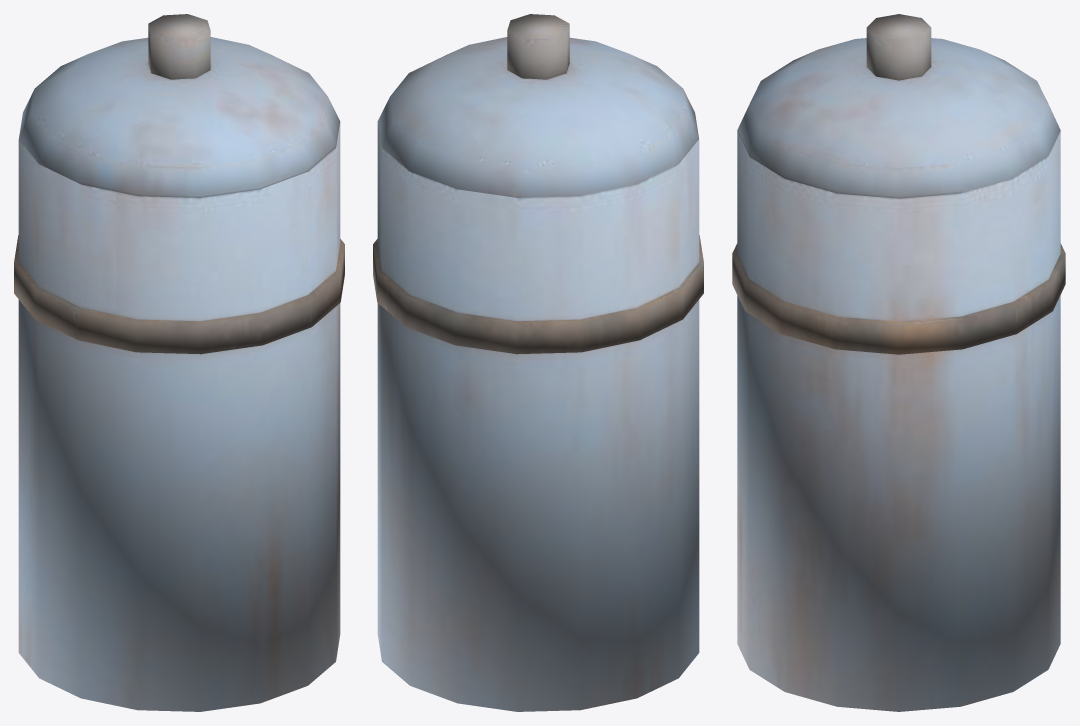
Rendered from barrel.glb.
3 renders of one model, left to right at view 1: azimuth 30°, elevation 25°; view 2: azimuth 150°, elevation 25°; view 3: azimuth 270°, elevation 25°, orthographic.
Visible parts, largest first — view 1: barrel; view 2: barrel; view 3: barrel.
Boxes of the visible parts, x1,y1,x2,y2 form: barrel: (14,14,344,711); barrel: (373,14,703,711); barrel: (732,14,1065,711).
Size of the model in its own units: 0.412 by 0.84 by 0.412.
Materials: 1 (1 with a texture image).
